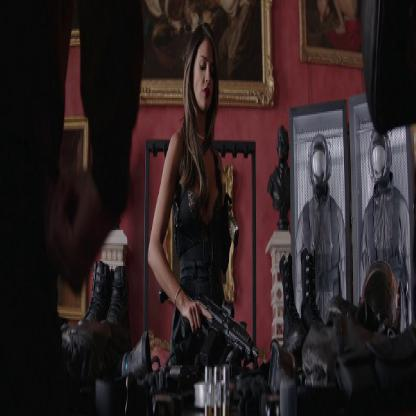Guns: (169, 287, 259, 379)
